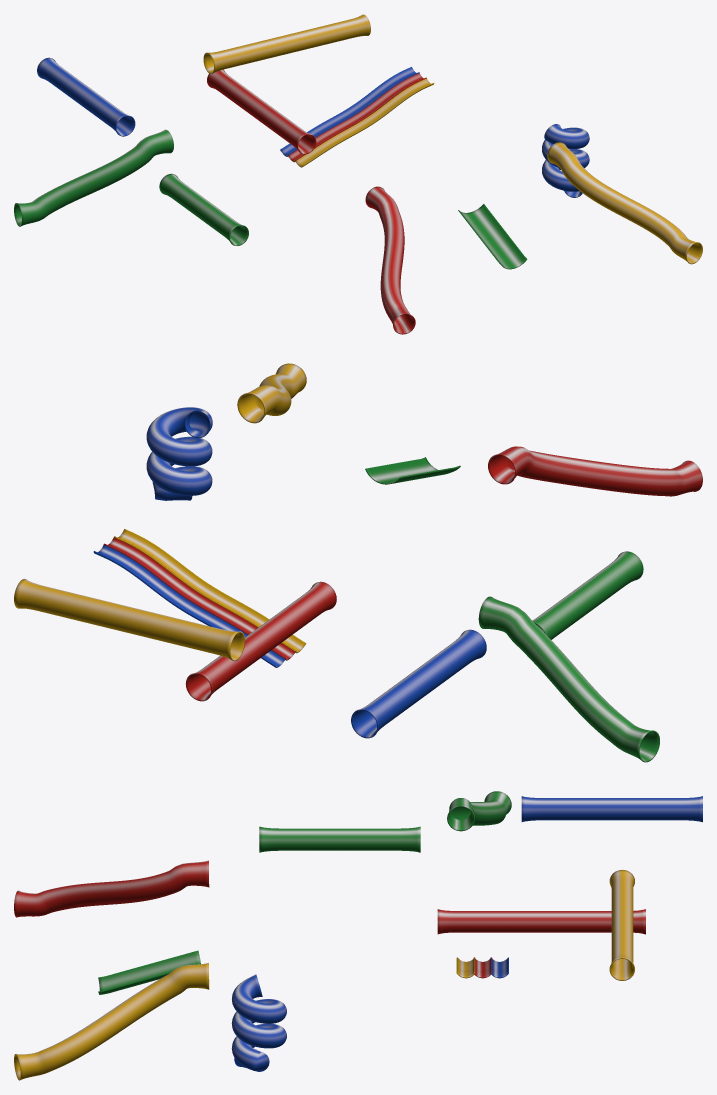
Rendered from Level6Slides.glb.
3 renders of one model, top to bottom at view 1: azimuth 30°, elevation 25°; view 2: azimuth 150°, elevation 25°; view 3: azimuth 270°, elevation 25°, orthographic. The views are drawn at different scales.
Visible parts, largest first — view 1: slide_10, slide_11, slide_02, slide_09, slide_01, slide_04, slide_03, slide_12, slide_08, slide_05, slide_07, slide_06; view 2: slide_11, slide_02, slide_09, slide_12, slide_01, slide_04, slide_03, slide_05, slide_10, slide_06, slide_07, slide_08; view 3: slide_10, slide_09, slide_04, slide_01, slide_03, slide_12, slide_02, slide_11, slide_08.
Part boxes in pixels (x1,y1,x2,y2): slide_10: [547, 142, 702, 264]; slide_11: [14, 129, 173, 226]; slide_02: [203, 14, 370, 74]; slide_09: [365, 186, 415, 334]; slide_01: [207, 69, 316, 154]; slide_04: [37, 57, 135, 136]; slide_03: [159, 173, 248, 245]; slide_12: [542, 124, 589, 197]; slide_08: [458, 204, 527, 269]; slide_05: [294, 78, 434, 167]; slide_07: [280, 67, 419, 156]; slide_06: [288, 73, 426, 162]; slide_11: [478, 596, 659, 762]; slide_02: [14, 579, 244, 661]; slide_09: [488, 446, 702, 496]; slide_12: [146, 407, 212, 500]; slide_01: [185, 581, 336, 701]; slide_04: [351, 629, 486, 738]; slide_03: [532, 551, 643, 639]; slide_05: [114, 529, 306, 653]; slide_10: [237, 363, 306, 423]; slide_06: [103, 536, 295, 660]; slide_07: [93, 545, 285, 667]; slide_08: [365, 457, 460, 484]; slide_10: [14, 962, 209, 1080]; slide_09: [14, 860, 209, 917]; slide_04: [521, 796, 702, 822]; slide_01: [437, 909, 645, 934]; slide_03: [259, 826, 420, 852]; slide_12: [231, 974, 286, 1071]; slide_02: [609, 869, 634, 980]; slide_11: [447, 791, 511, 831]; slide_08: [98, 950, 200, 994].
Size of the model in its own units: 190 by 28.22 by 205.
